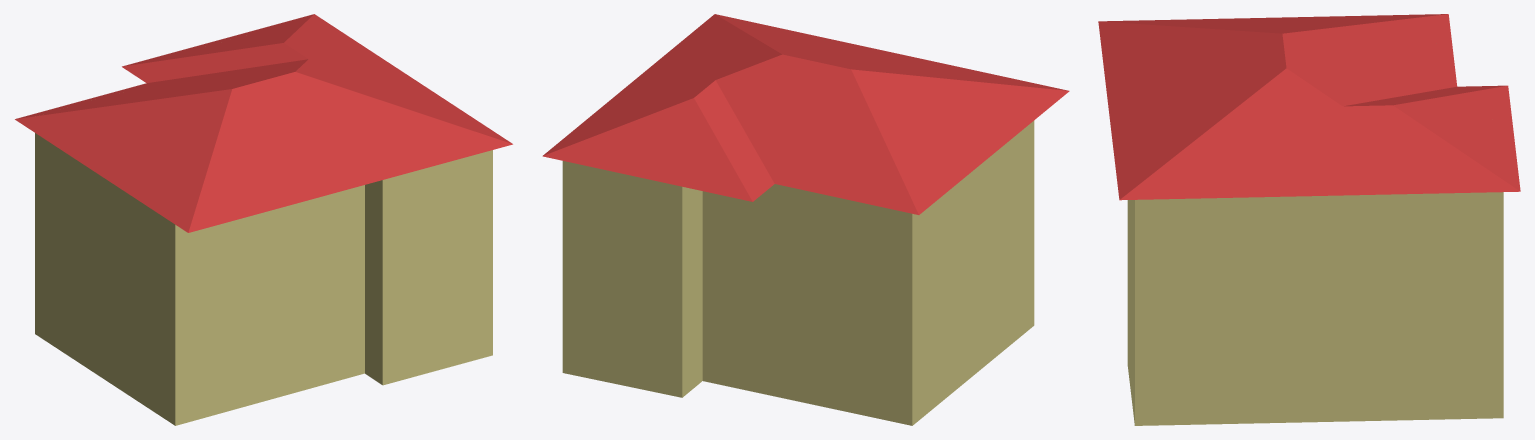
3 views of the same model, side by side, from view 1: azimuth 30°, elevation 25°; view 2: azimuth 150°, elevation 25°; view 3: azimuth 270°, elevation 25° (orthographic). The views are drawn at different scales.
Bounding box in the file's own units: 13.5 × 12.94 × 9.77.
